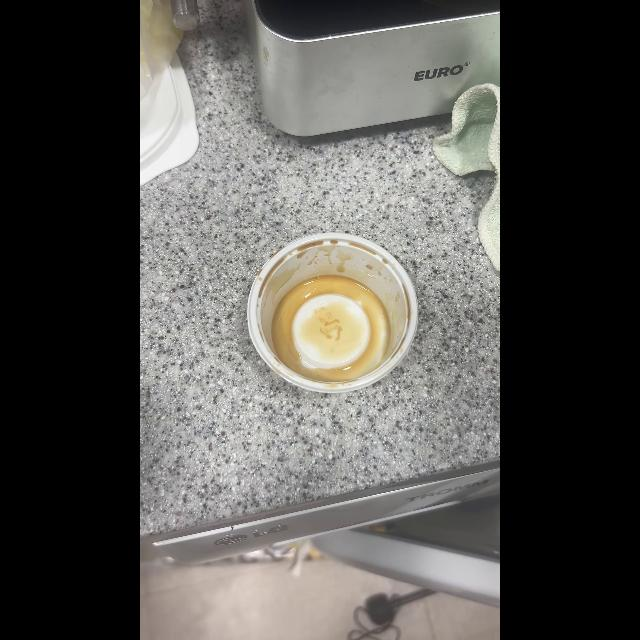dirty: (244, 234, 416, 392)
